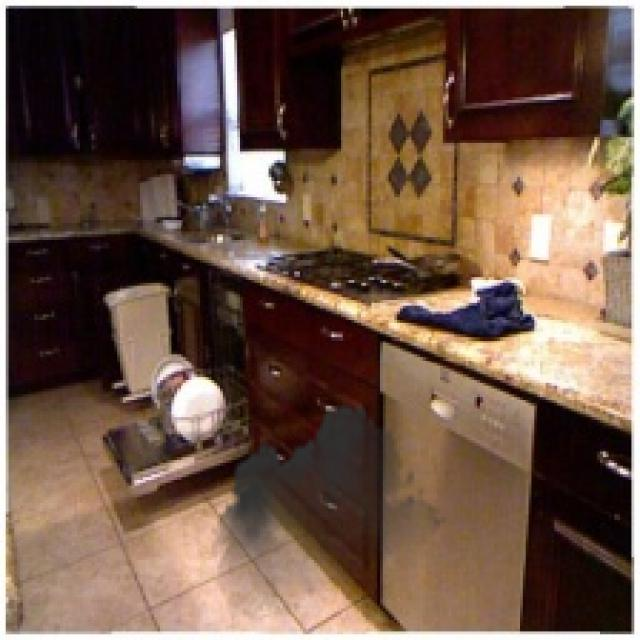smoke: (212, 394, 448, 634)
